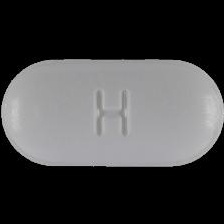31722-730: (0, 0, 224, 224)
